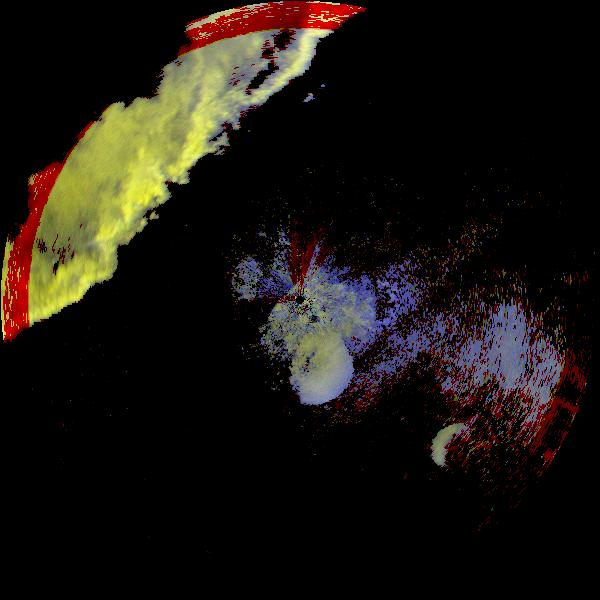roost: (263, 315, 368, 420), (422, 414, 497, 489)
